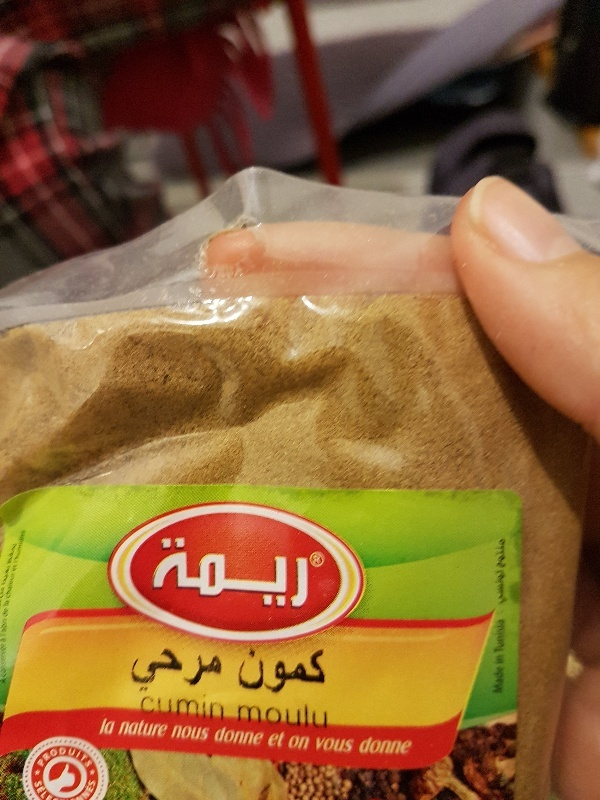text: (161, 534, 176, 611), (177, 534, 192, 611), (193, 534, 208, 611), (209, 534, 224, 611), (225, 534, 240, 611), (241, 534, 256, 611), (257, 534, 272, 611), (273, 534, 288, 611), (289, 534, 304, 611), (497, 537, 509, 607), (209, 647, 225, 692), (241, 648, 256, 693), (257, 648, 272, 693), (273, 648, 288, 693), (289, 648, 304, 693), (305, 648, 320, 693), (129, 647, 144, 692), (145, 647, 160, 692), (161, 647, 176, 692), (177, 647, 192, 692), (193, 647, 208, 692), (497, 618, 505, 696), (153, 534, 160, 611), (305, 534, 311, 611), (241, 700, 256, 730), (257, 700, 272, 730), (273, 700, 288, 730), (289, 700, 304, 730), (305, 700, 320, 730), (145, 693, 160, 722), (161, 693, 176, 722), (177, 693, 192, 722), (193, 693, 208, 722), (209, 693, 224, 722), (49, 746, 64, 769), (65, 746, 80, 769), (225, 725, 240, 747), (241, 725, 256, 747), (81, 746, 95, 769), (33, 779, 48, 800), (49, 779, 64, 800), (65, 779, 80, 800), (81, 779, 96, 800), (321, 648, 328, 693), (492, 618, 496, 696), (35, 746, 48, 769), (98, 716, 112, 736), (273, 729, 286, 750), (369, 736, 384, 754), (385, 736, 400, 754), (129, 720, 144, 738), (145, 720, 160, 738), (177, 724, 192, 742), (193, 724, 208, 742), (321, 700, 329, 730), (321, 737, 336, 752), (337, 737, 352, 752), (289, 735, 304, 750), (235, 648, 240, 693), (401, 736, 413, 754), (257, 725, 265, 747), (359, 736, 368, 754), (235, 700, 240, 730), (120, 720, 128, 738), (494, 537, 496, 607), (218, 725, 224, 747), (161, 720, 168, 738), (140, 693, 144, 722), (267, 729, 272, 750), (305, 735, 311, 750), (113, 716, 117, 736), (312, 555, 320, 565), (172, 724, 176, 742), (97, 779, 100, 800), (316, 737, 320, 752), (225, 693, 226, 722), (209, 724, 210, 742), (353, 737, 354, 752)
